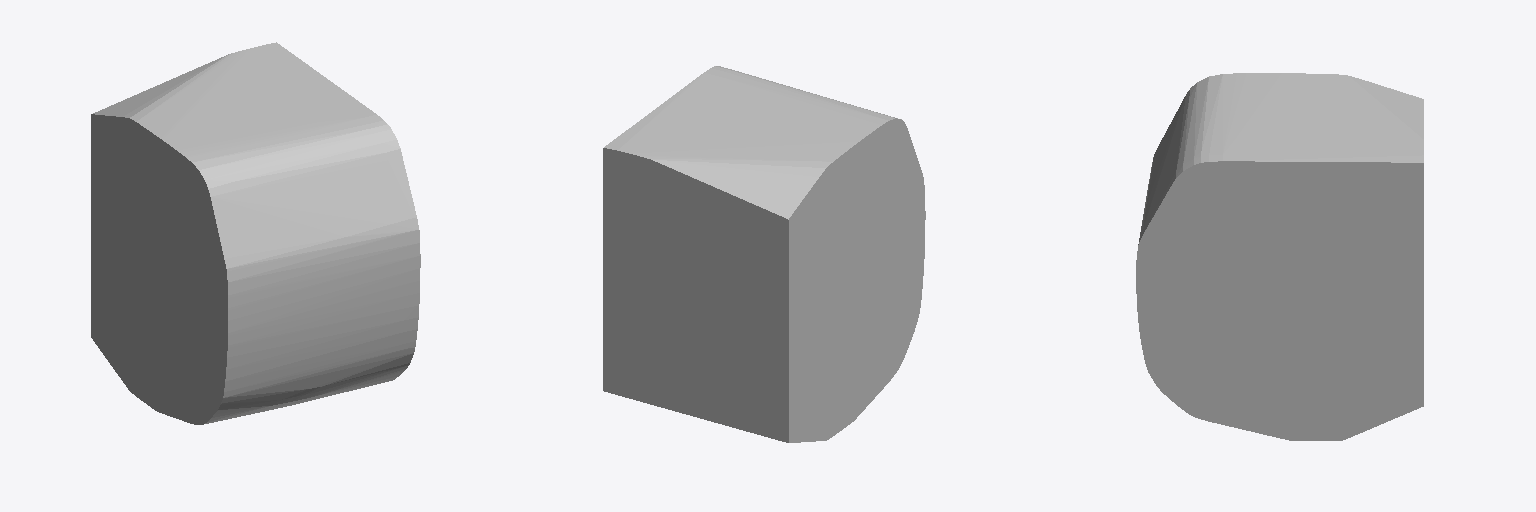
File: Multimeter_collision_3.obj
3 renders of one model, left to right at view 1: azimuth 30°, elevation 25°; view 2: azimuth 150°, elevation 25°; view 3: azimuth 270°, elevation 25°, orthographic.
Bounding box in the file's own units: 21.73 × 31.38 × 29.26.